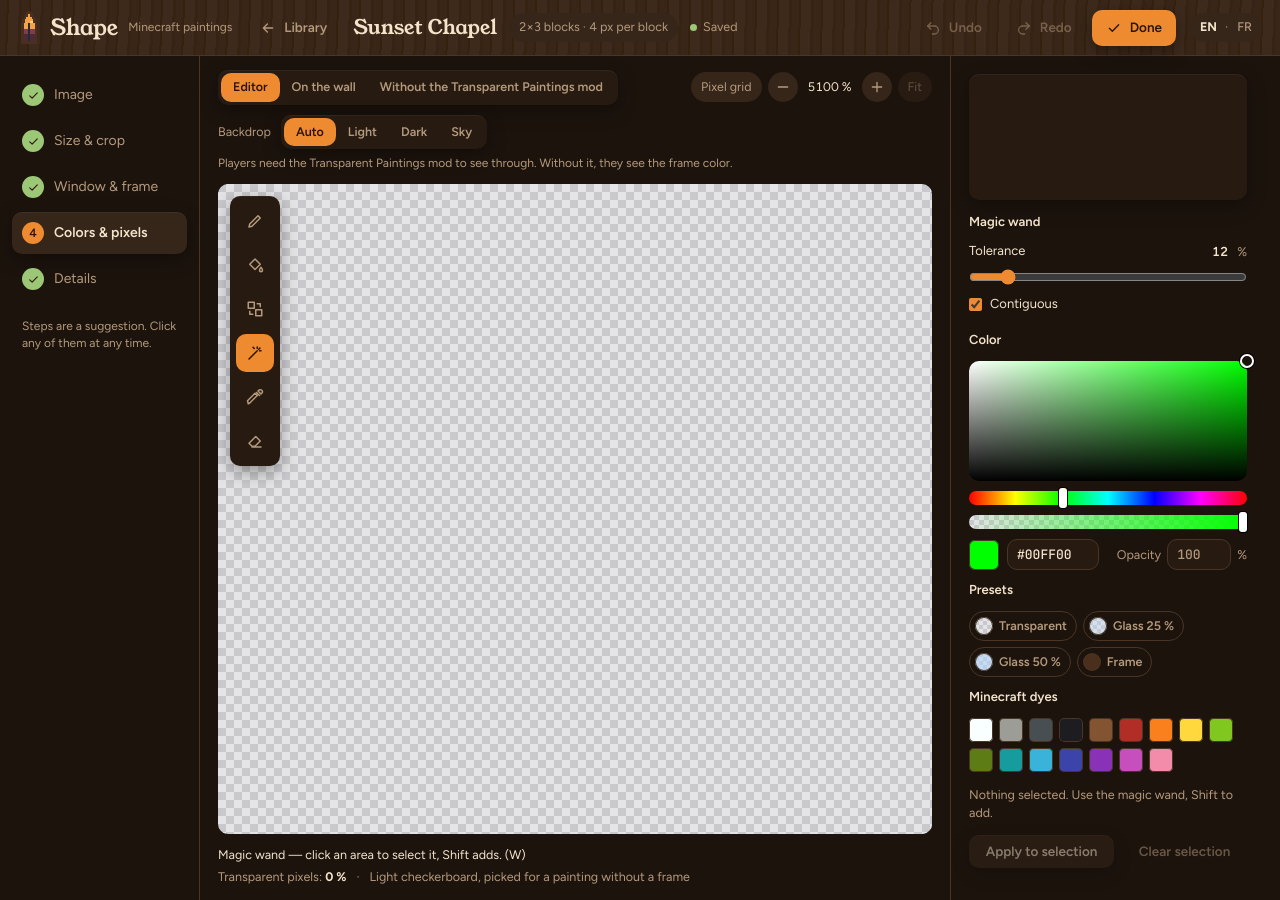
it: editor steps › Colors & pixels › Fit is its own button, off while fitted; the wall view keeps the toolbar in place
Check: the button "Fit" is disabled, box [898,72,932,102]
Step 1. Click the button named "Zoom in" → {"x": 877, "y": 87}, box [862,72,892,102]
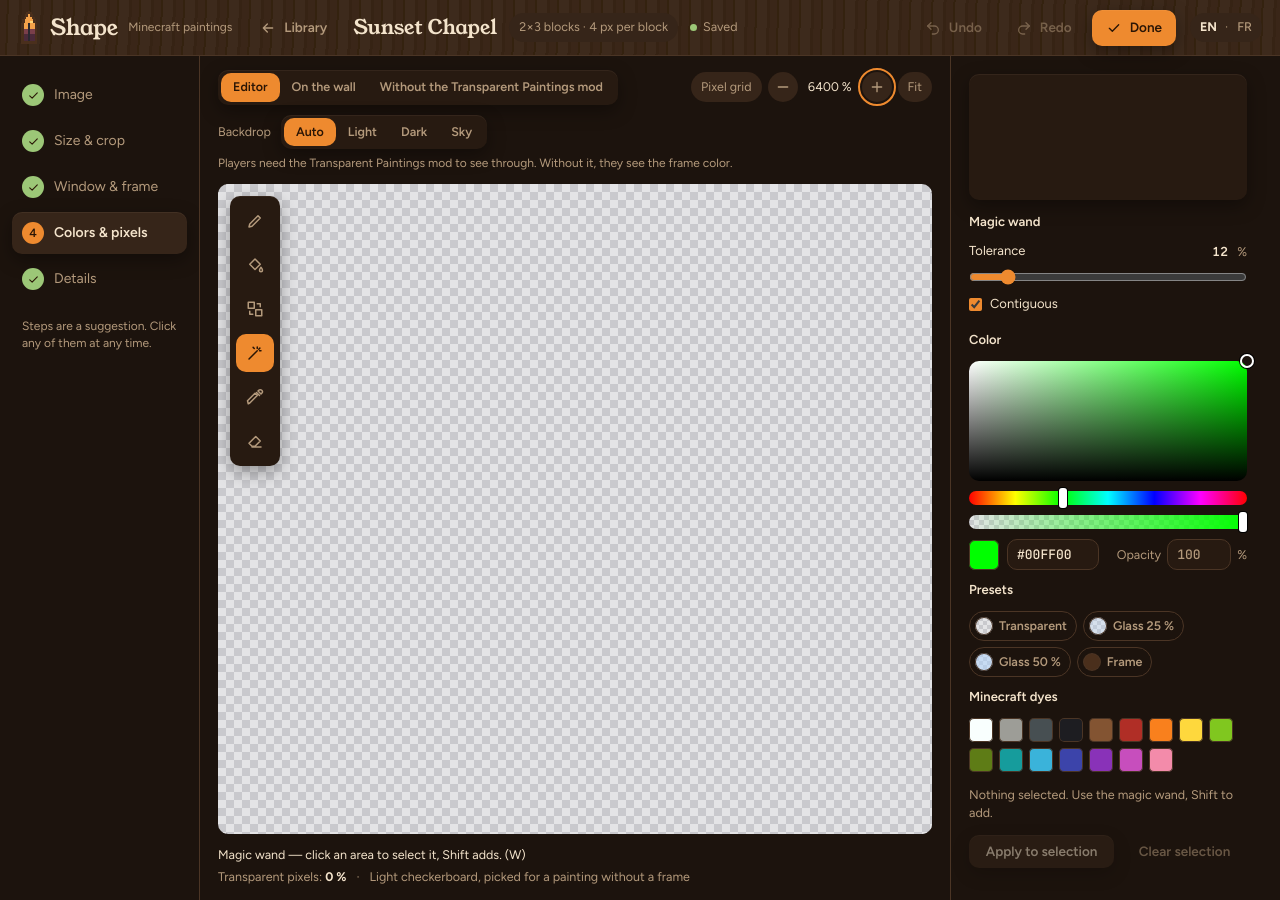
Check: the button "Fit" is enabled
Step 2. Click the button "Fit" → {"x": 915, "y": 87}, box [898,72,932,102]
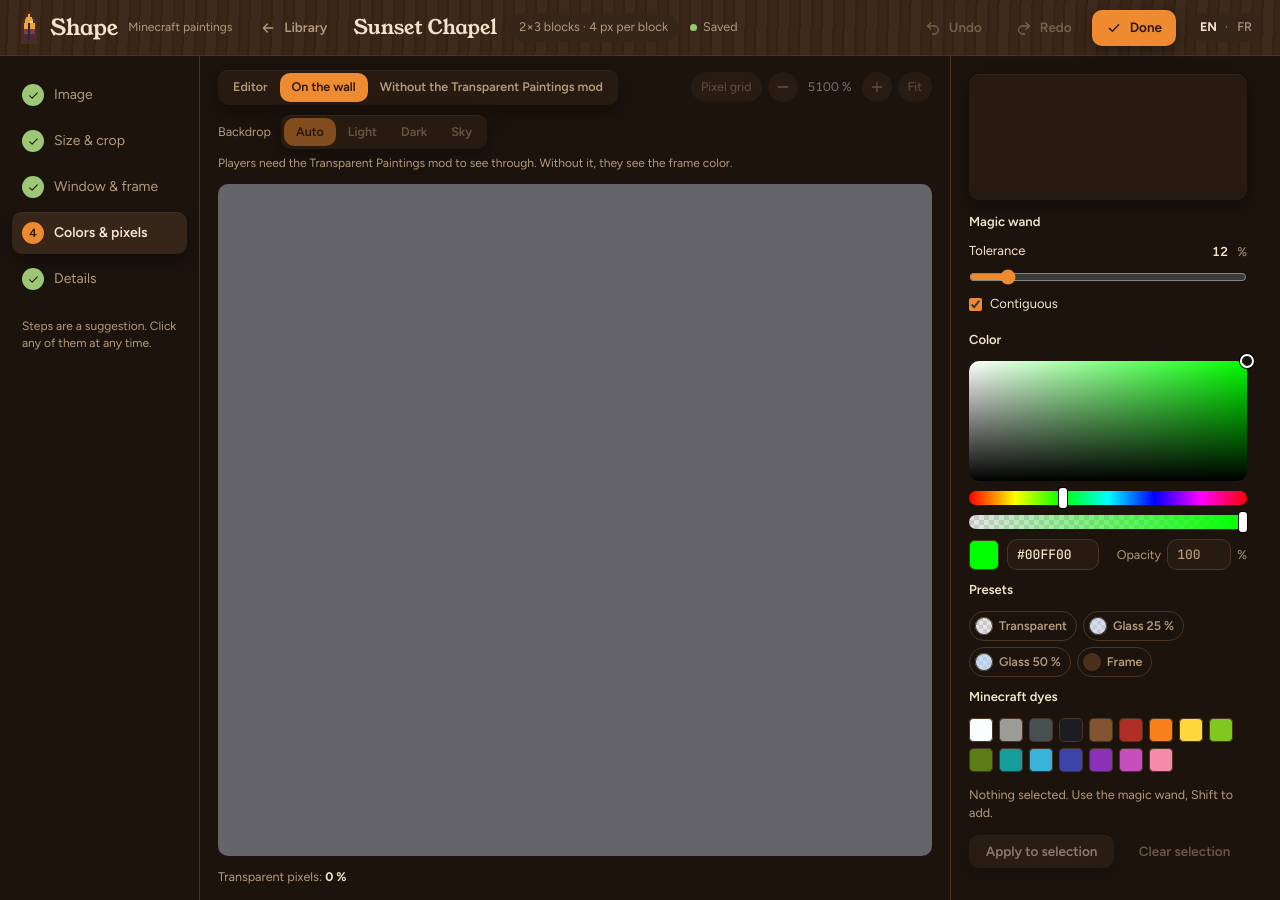
Check: the button named "Zoom in" is disabled, box [862,72,892,102]
Check: the radio button labelled "Sky" is disabled, box [439,118,484,146]
